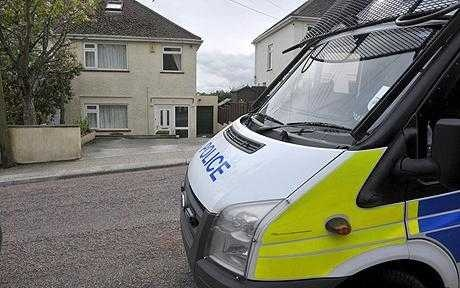Police Car: (173, 6, 460, 288)
